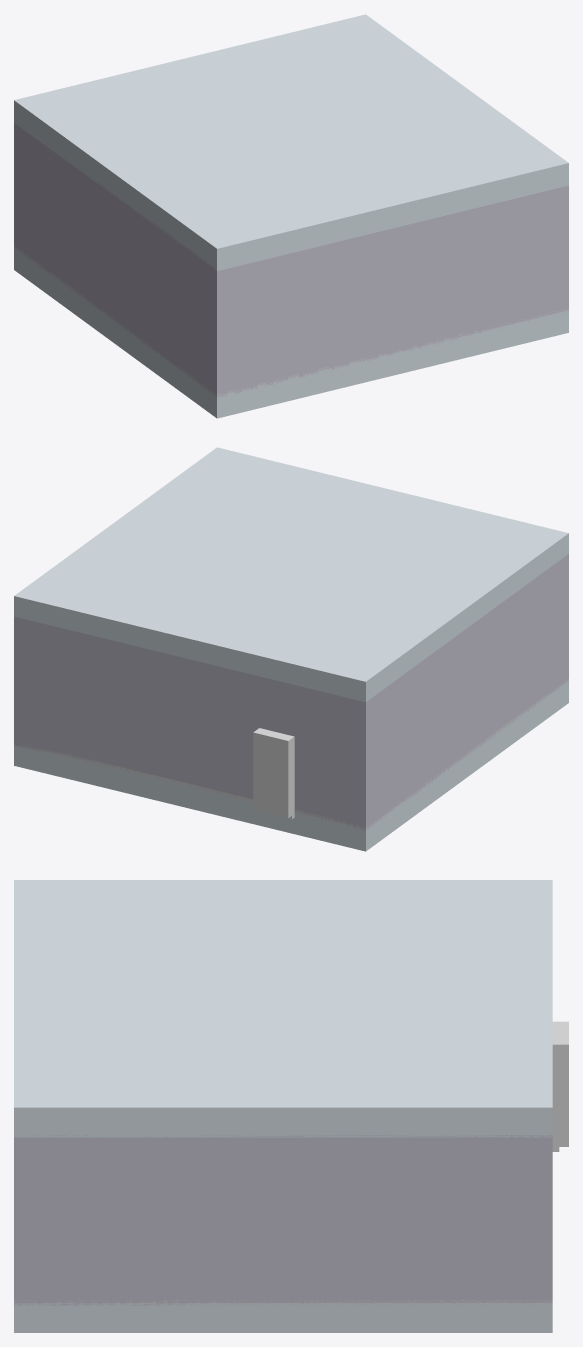
Rendered from labfinal.fbx.
3 renders of one model, top to bottom at view 1: azimuth 30°, elevation 25°; view 2: azimuth 150°, elevation 25°; view 3: azimuth 270°, elevation 25°, orthographic. The views are drawn at different scales.
Parts seen in each view (by area): view 1: Cube.001, Room, Cube, Baseboard; view 2: Cube.001, Room, Cube, CTRL_Hole, Baseboard; view 3: Cube.001, Room, Cube, CTRL_Hole, Baseboard.
Boxes of the visible parts, left/top/right/bottom form: Cube.001: left=14, top=14, right=568, bottom=271; Room: left=14, top=123, right=568, bottom=397; Cube: left=14, top=248, right=568, bottom=418; Baseboard: left=14, top=245, right=567, bottom=397; Cube.001: left=14, top=447, right=568, bottom=702; Room: left=14, top=554, right=568, bottom=830; Cube: left=14, top=681, right=568, bottom=851; CTRL_Hole: left=253, top=728, right=294, bottom=818; Baseboard: left=21, top=678, right=568, bottom=830; Cube.001: left=14, top=880, right=552, bottom=1137; Room: left=14, top=1135, right=552, bottom=1305; Cube: left=14, top=1303, right=552, bottom=1332; CTRL_Hole: left=552, top=1021, right=568, bottom=1146; Baseboard: left=14, top=1300, right=552, bottom=1305.
Bounding box in the file's own units: 1000 × 461 × 1030.
